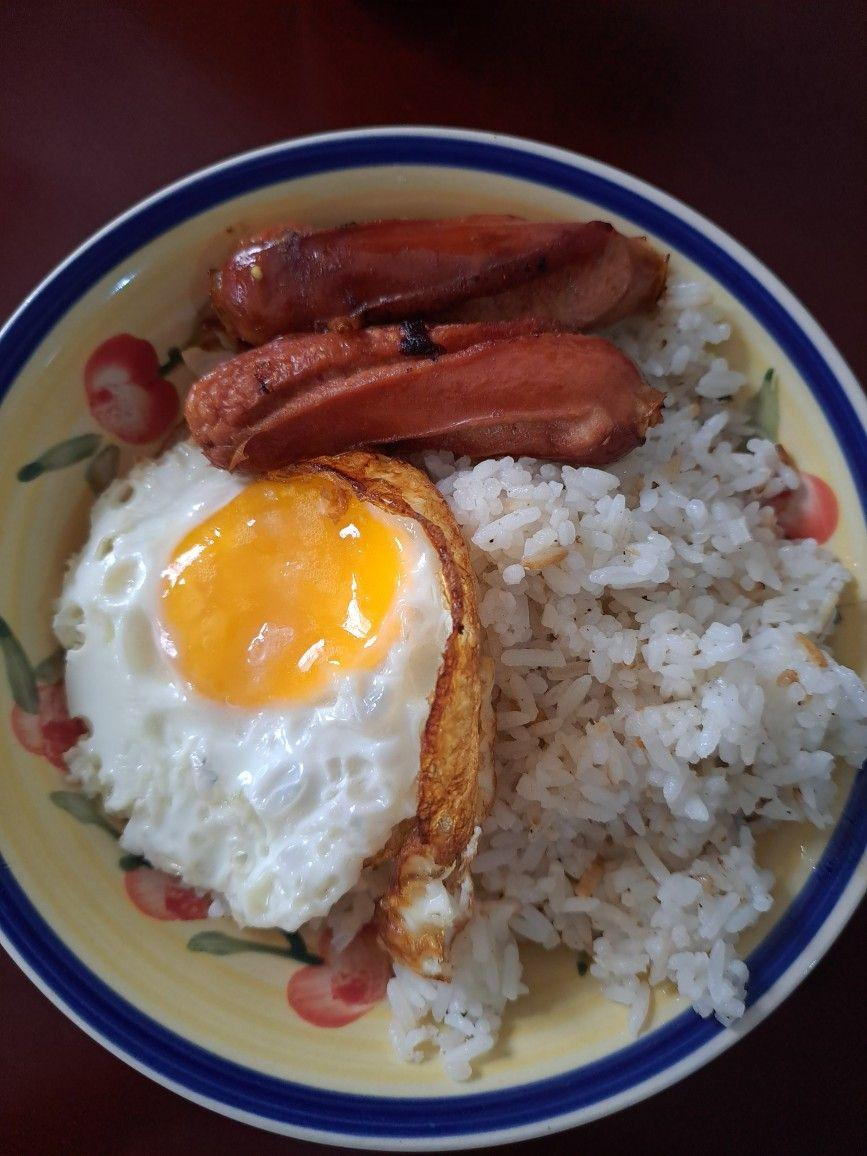daging: (237, 342, 614, 450), (243, 218, 609, 310)
makanan_berpati: (528, 506, 738, 880)
telur: (110, 491, 403, 875)
